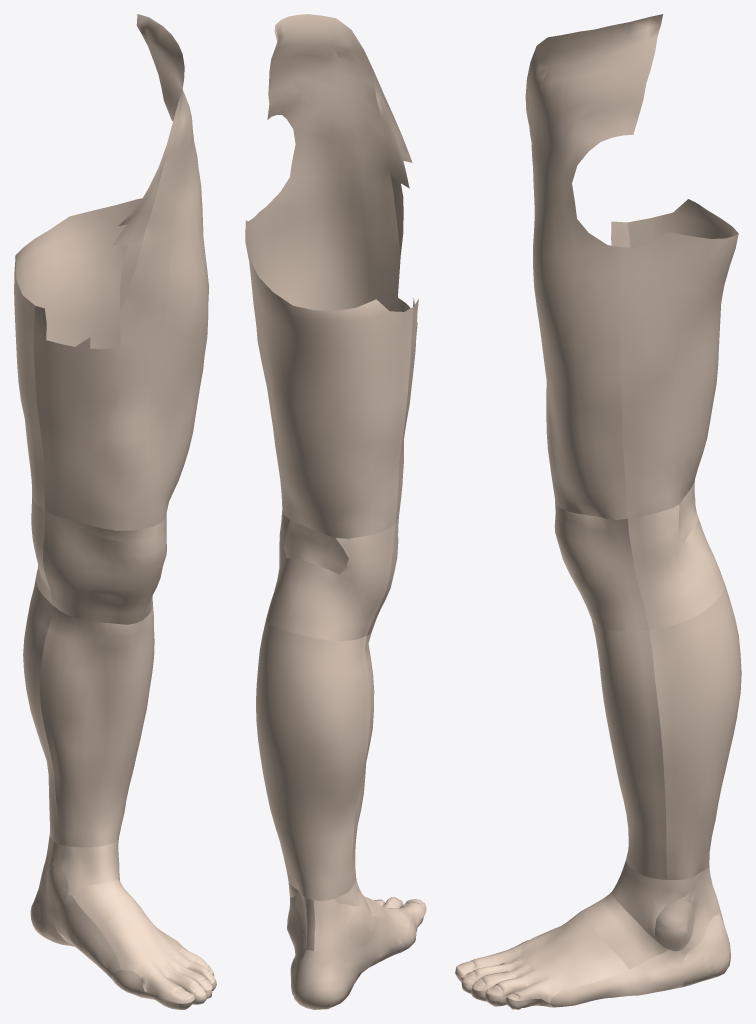
Rendered from lod1-leg-left-skin.glb.
3 views of the same model, side by side, from view 1: azimuth 30°, elevation 25°; view 2: azimuth 150°, elevation 25°; view 3: azimuth 270°, elevation 25° (orthographic). The views are drawn at different scales.
Parts seen in each view (by area): view 1: part::Anterior region of thigh.l, part::Anterior region of leg.l, part::Posterior region of thigh.l, part::Anterior region of knee.l, part::Posterior region of leg.l, part::Metatarsal region.l, part::Dorsal surfaces of digits of foot.l, part::Anterior region of ankle.l, part::Medial border of foot.l, part::Femoral triangle.l, part::Dorsum of foot.l, part::Posterior region of knee.l (+5 smaller); view 2: part::Anterior region of thigh.l, part::Posterior region of thigh.l, part::Posterior region of leg.l, part::Posterior region of knee.l, part::Heel region.l, part::Femoral triangle.l, part::Medial retromalleolar region.l, part::Popliteal fossa.l, part::Medial border of foot.l, part::Lateral retromalleolar region.l, part::Anterior region of leg.l, part::Medial malleolus.l (+3 smaller); view 3: part::Anterior region of thigh.l, part::Posterior region of thigh.l, part::Posterior region of leg.l, part::Anterior region of leg.l, part::Posterior region of knee.l, part::Anterior region of knee.l, part::Metatarsal region.l, part::Lateral border of foot.l, part::Dorsal surfaces of digits of foot.l, part::Dorsum of foot.l, part::Anterior region of ankle.l, part::Heel region.l (+4 smaller).
Part boxes in pixels (left/top/right/bottom): part::Anterior region of thigh.l: left=33, top=14, right=208, bottom=530; part::Anterior region of leg.l: left=40, top=605, right=154, bottom=847; part::Posterior region of thigh.l: left=14, top=198, right=142, bottom=510; part::Anterior region of knee.l: left=43, top=511, right=166, bottom=624; part::Posterior region of leg.l: left=23, top=576, right=59, bottom=843; part::Metatarsal region.l: left=100, top=905, right=184, bottom=971; part::Dorsal surfaces of digits of foot.l: left=135, top=948, right=215, bottom=1003; part::Anterior region of ankle.l: left=50, top=836, right=119, bottom=893; part::Medial border of foot.l: left=47, top=894, right=120, bottom=978; part::Femoral triangle.l: left=113, top=146, right=166, bottom=310; part::Dorsum of foot.l: left=68, top=880, right=139, bottom=930; part::Posterior region of knee.l: left=31, top=496, right=52, bottom=604; part::Anterior region of thigh.l: left=258, top=14, right=418, bottom=523; part::Posterior region of thigh.l: left=245, top=213, right=413, bottom=538; part::Posterior region of leg.l: left=256, top=620, right=370, bottom=900; part::Posterior region of knee.l: left=266, top=510, right=395, bottom=640; part::Heel region.l: left=290, top=948, right=358, bottom=1009; part::Femoral triangle.l: left=374, top=72, right=412, bottom=255; part::Medial retromalleolar region.l: left=313, top=899, right=365, bottom=962; part::Popliteal fossa.l: left=284, top=520, right=348, bottom=574; part::Medial border of foot.l: left=350, top=916, right=408, bottom=974; part::Lateral retromalleolar region.l: left=290, top=891, right=315, bottom=956; part::Anterior region of leg.l: left=352, top=631, right=374, bottom=886; part::Medial malleolus.l: left=349, top=905, right=373, bottom=948; part::Anterior region of thigh.l: left=527, top=14, right=662, bottom=519; part::Posterior region of thigh.l: left=619, top=199, right=738, bottom=518; part::Posterior region of leg.l: left=649, top=585, right=741, bottom=879; part::Anterior region of leg.l: left=592, top=621, right=666, bottom=879; part::Posterior region of knee.l: left=628, top=505, right=725, bottom=630; part::Anterior region of knee.l: left=554, top=500, right=648, bottom=631; part::Metatarsal region.l: left=521, top=911, right=628, bottom=989; part::Lateral border of foot.l: left=550, top=949, right=686, bottom=1006; part::Dorsal surfaces of digits of foot.l: left=455, top=943, right=561, bottom=1002; part::Dorsum of foot.l: left=581, top=892, right=668, bottom=969; part::Anterior region of ankle.l: left=612, top=860, right=699, bottom=942; part::Heel region.l: left=681, top=910, right=730, bottom=987.
Bounding box in the file's own units: 0.1803 × 1.02 × 0.2641.
